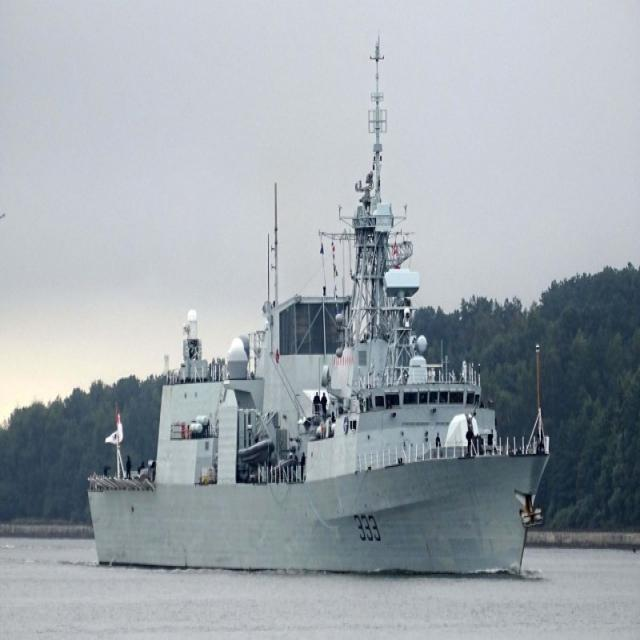Fragata: (84, 33, 556, 574)
